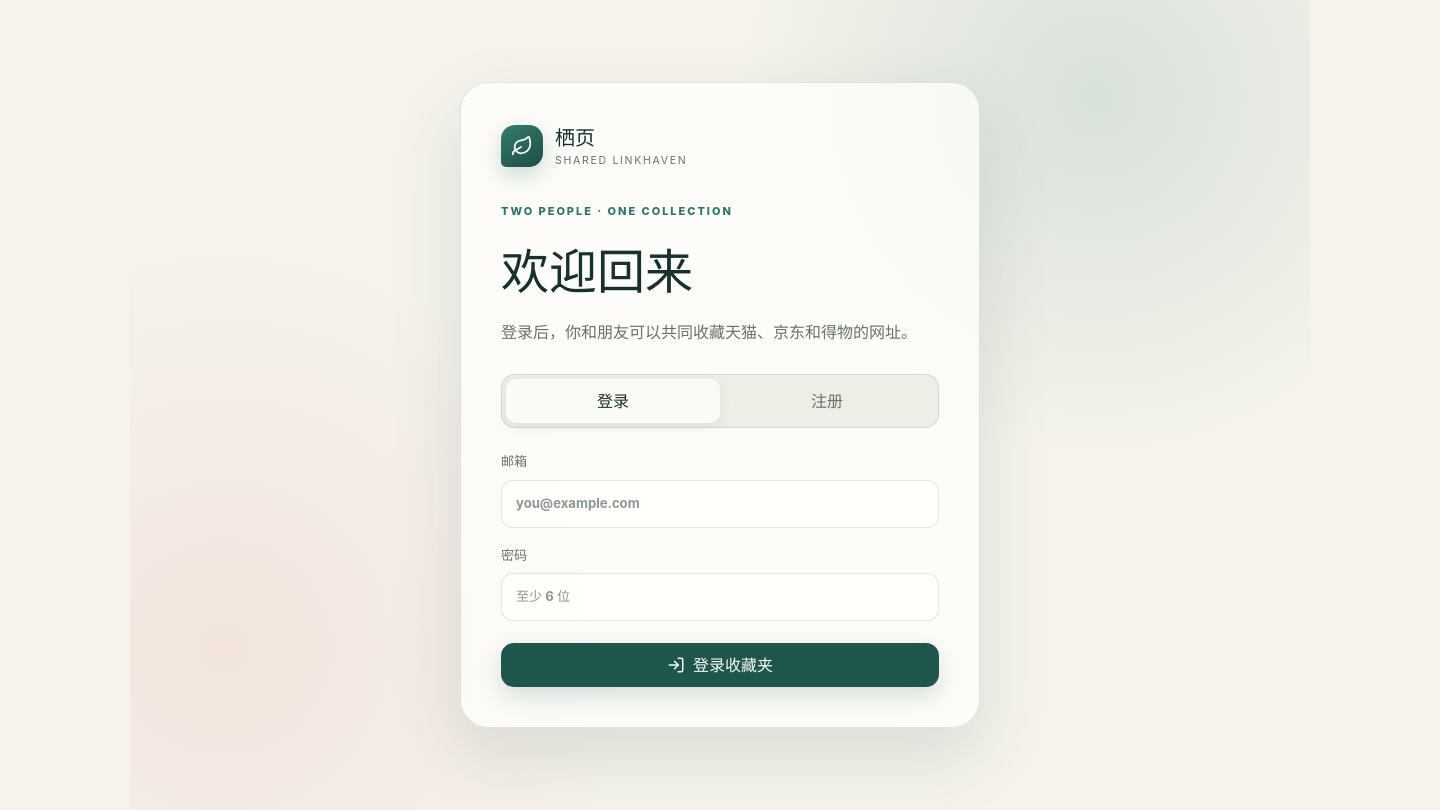
Scenario: AuthScreen › explains that a new user must confirm their email
The width and height of the screenshot is (1440, 810).
Click the tab "注册" at (827, 401), box [720, 379, 934, 423]
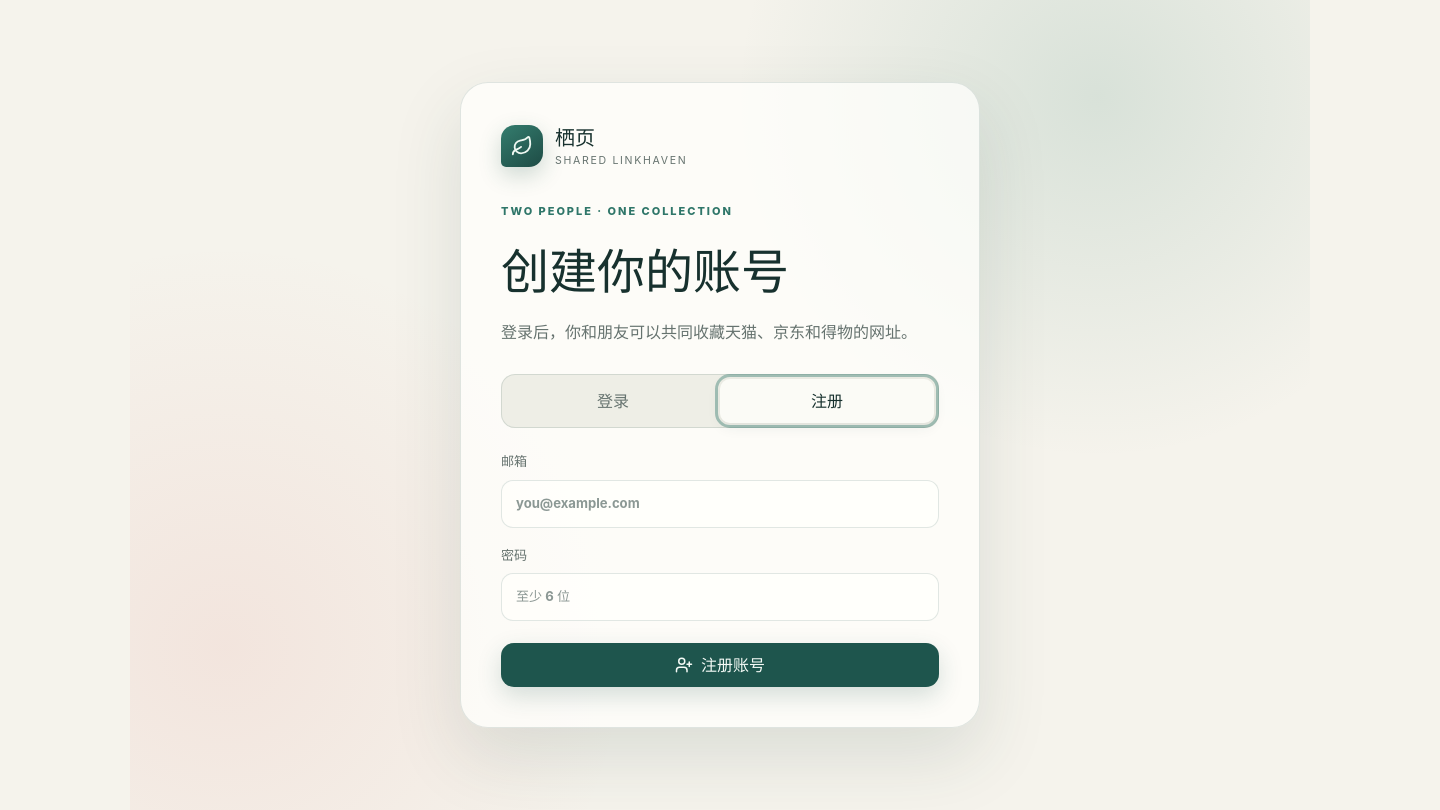
Type "new@example.com" into the field labelled "邮箱" at (720, 504), box [501, 480, 939, 528]
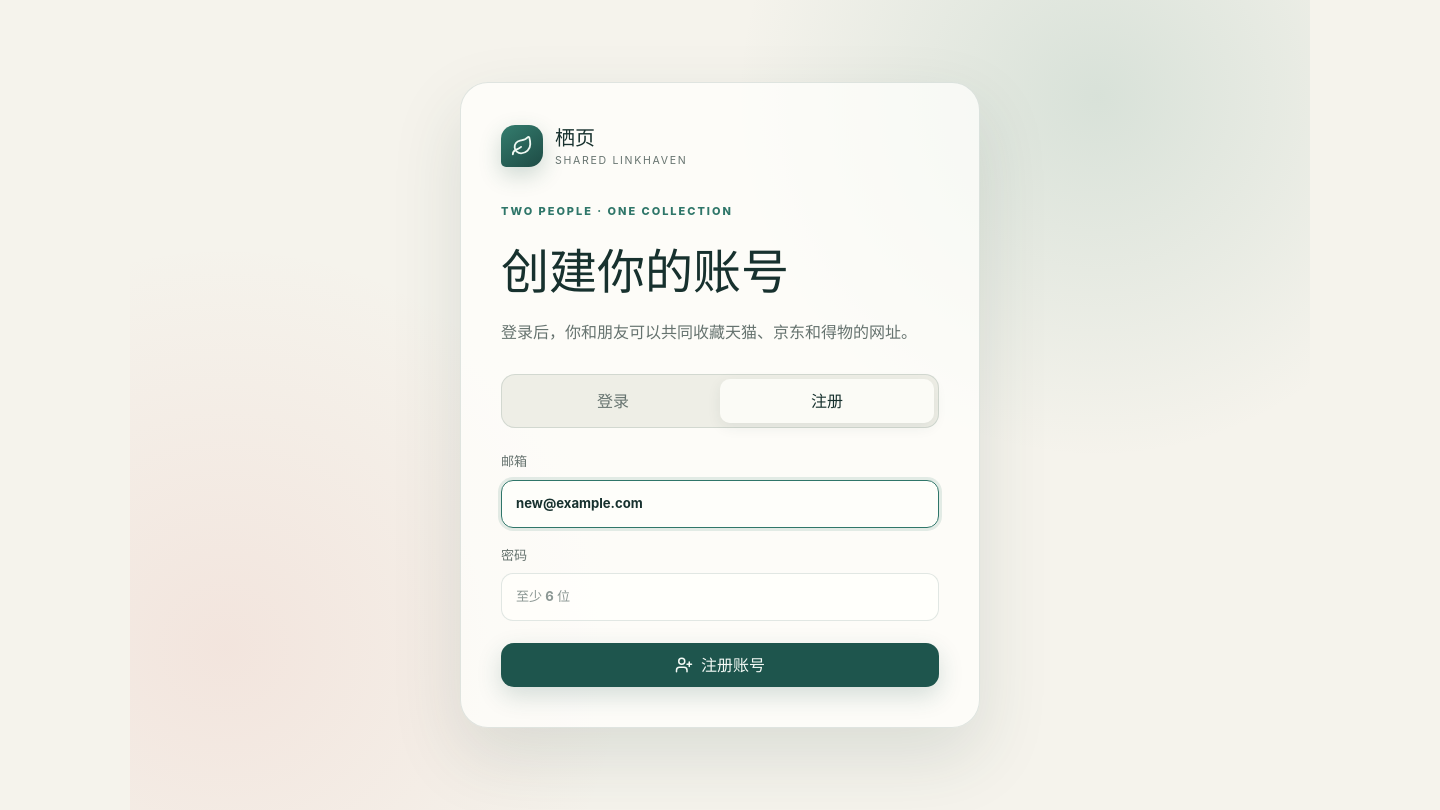
Type "secret12" into the password field labelled "密码" at (720, 597), box [501, 573, 939, 621]
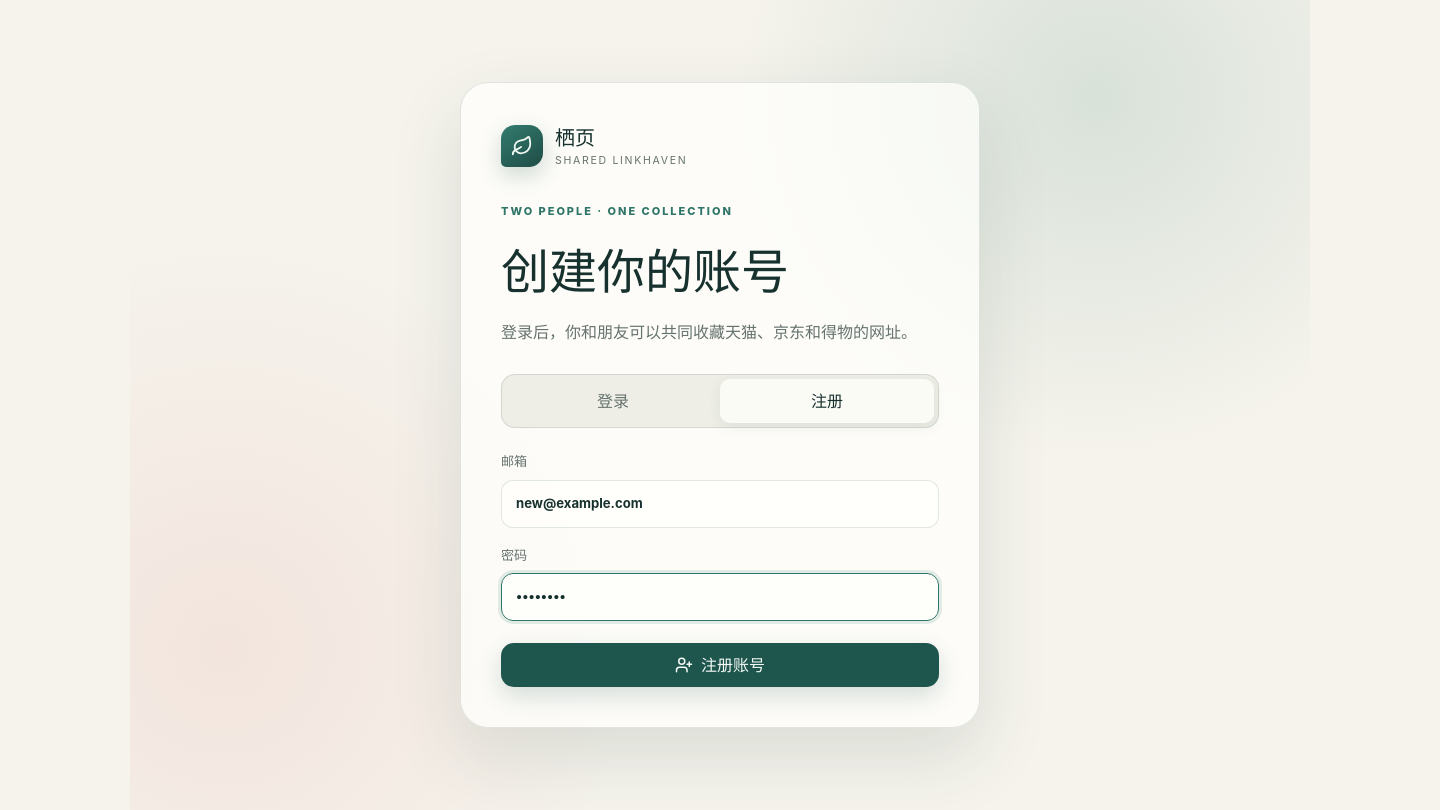
Click the button "注册账号" at (720, 665), box [501, 643, 939, 687]
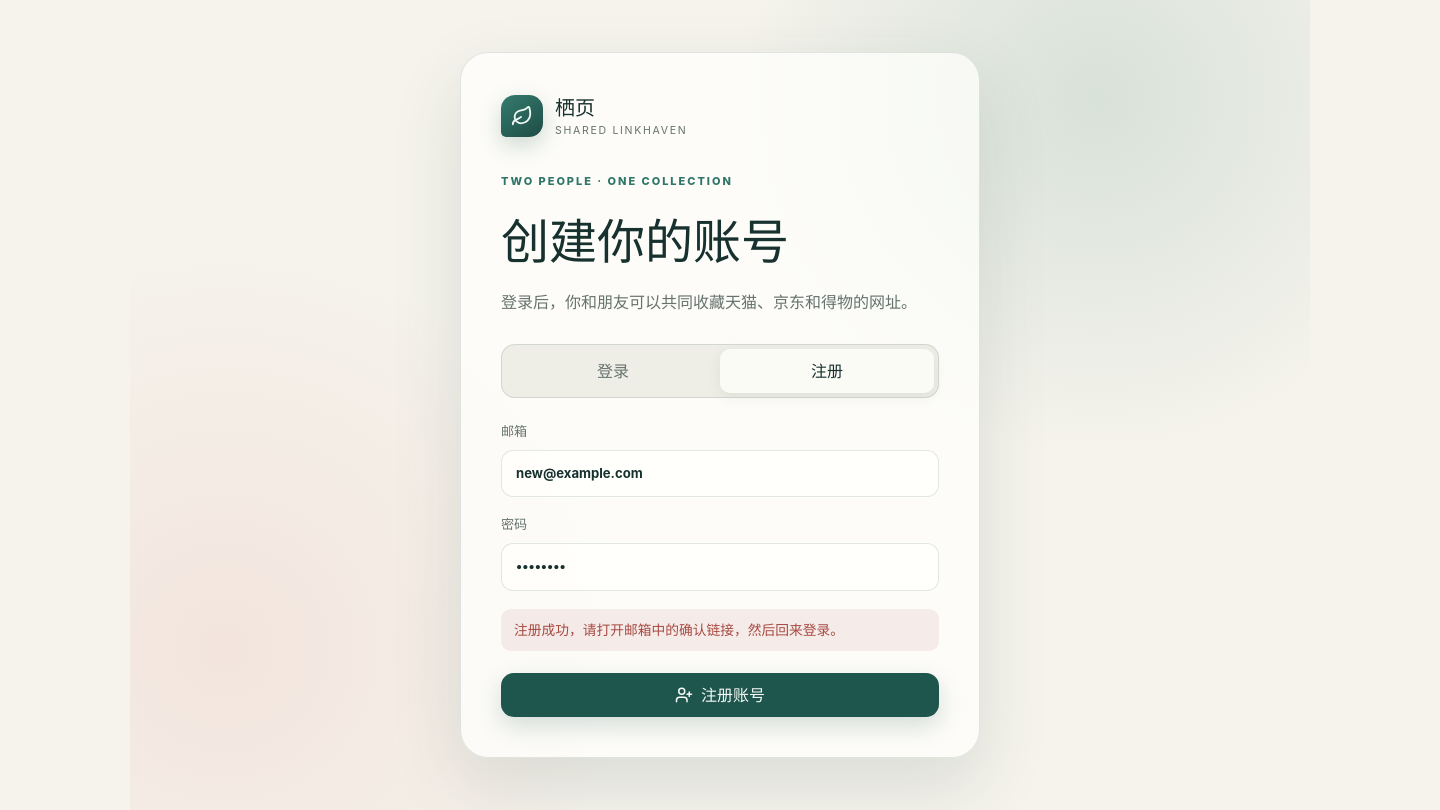
Expected: the text "注册成功，请打开邮箱中的确认链接，然后回来登录。" is shown, [501, 609, 939, 651]
